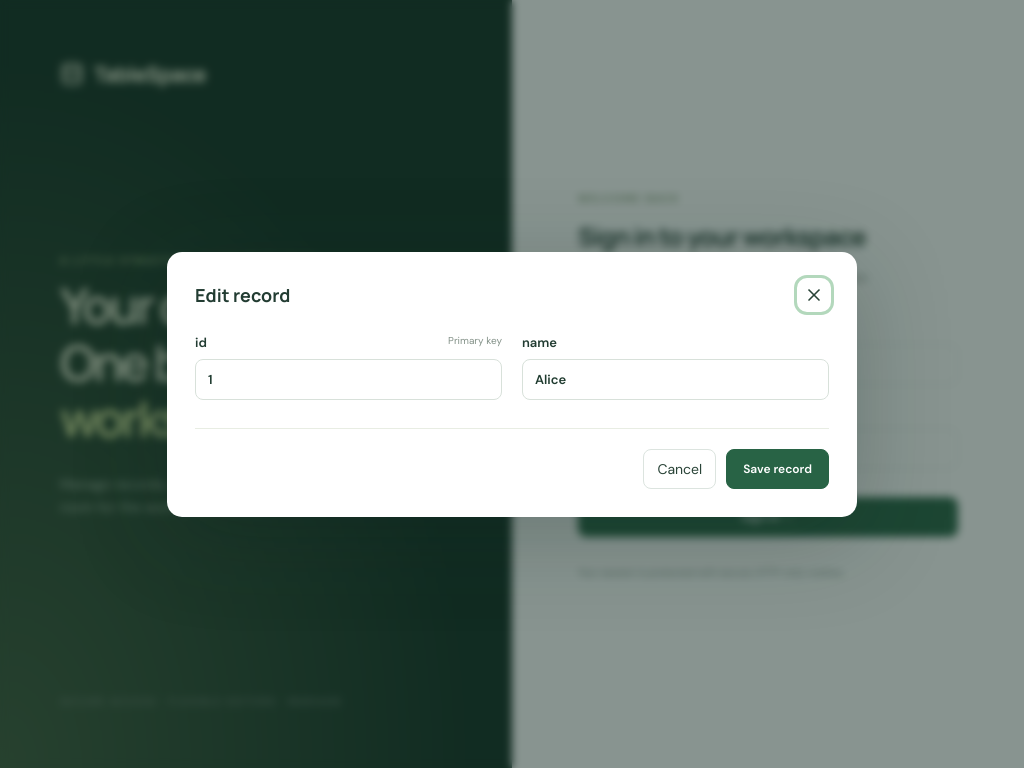
Test case: Record editor › keeps the form open and reports conflict errors
Replace the text in the field labelled "name" with "Changed" at (676, 379), box [522, 358, 829, 400]
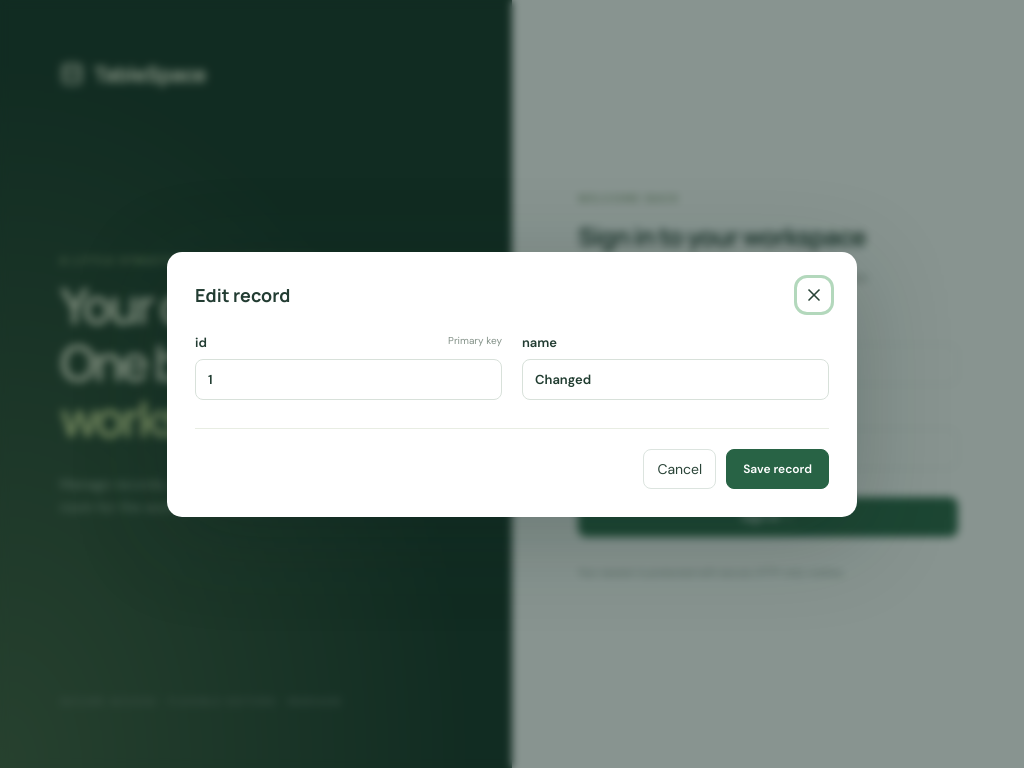
Click the button "Save record" at (778, 468), box [726, 448, 829, 488]
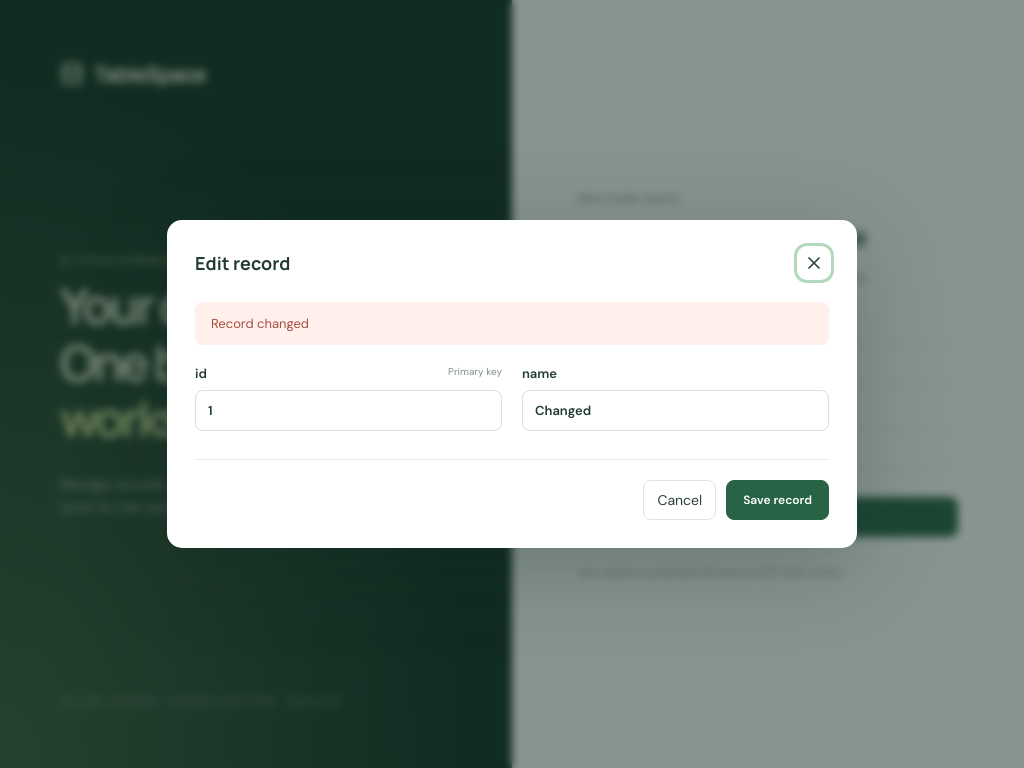
expect the message reads "Record changed": met, box [211, 315, 309, 332]
